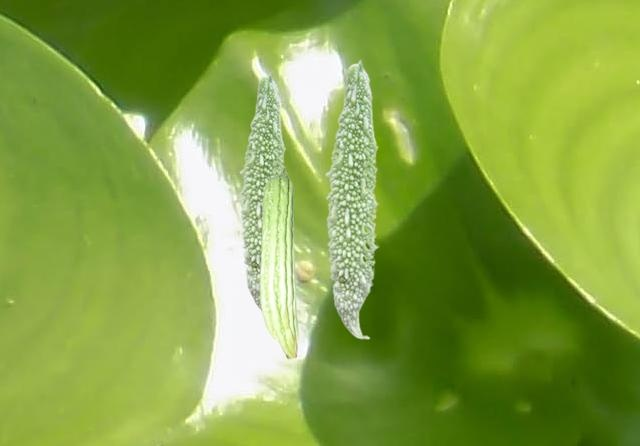ampalaya: (325, 59, 379, 339), (239, 71, 286, 310), (257, 165, 299, 360)
